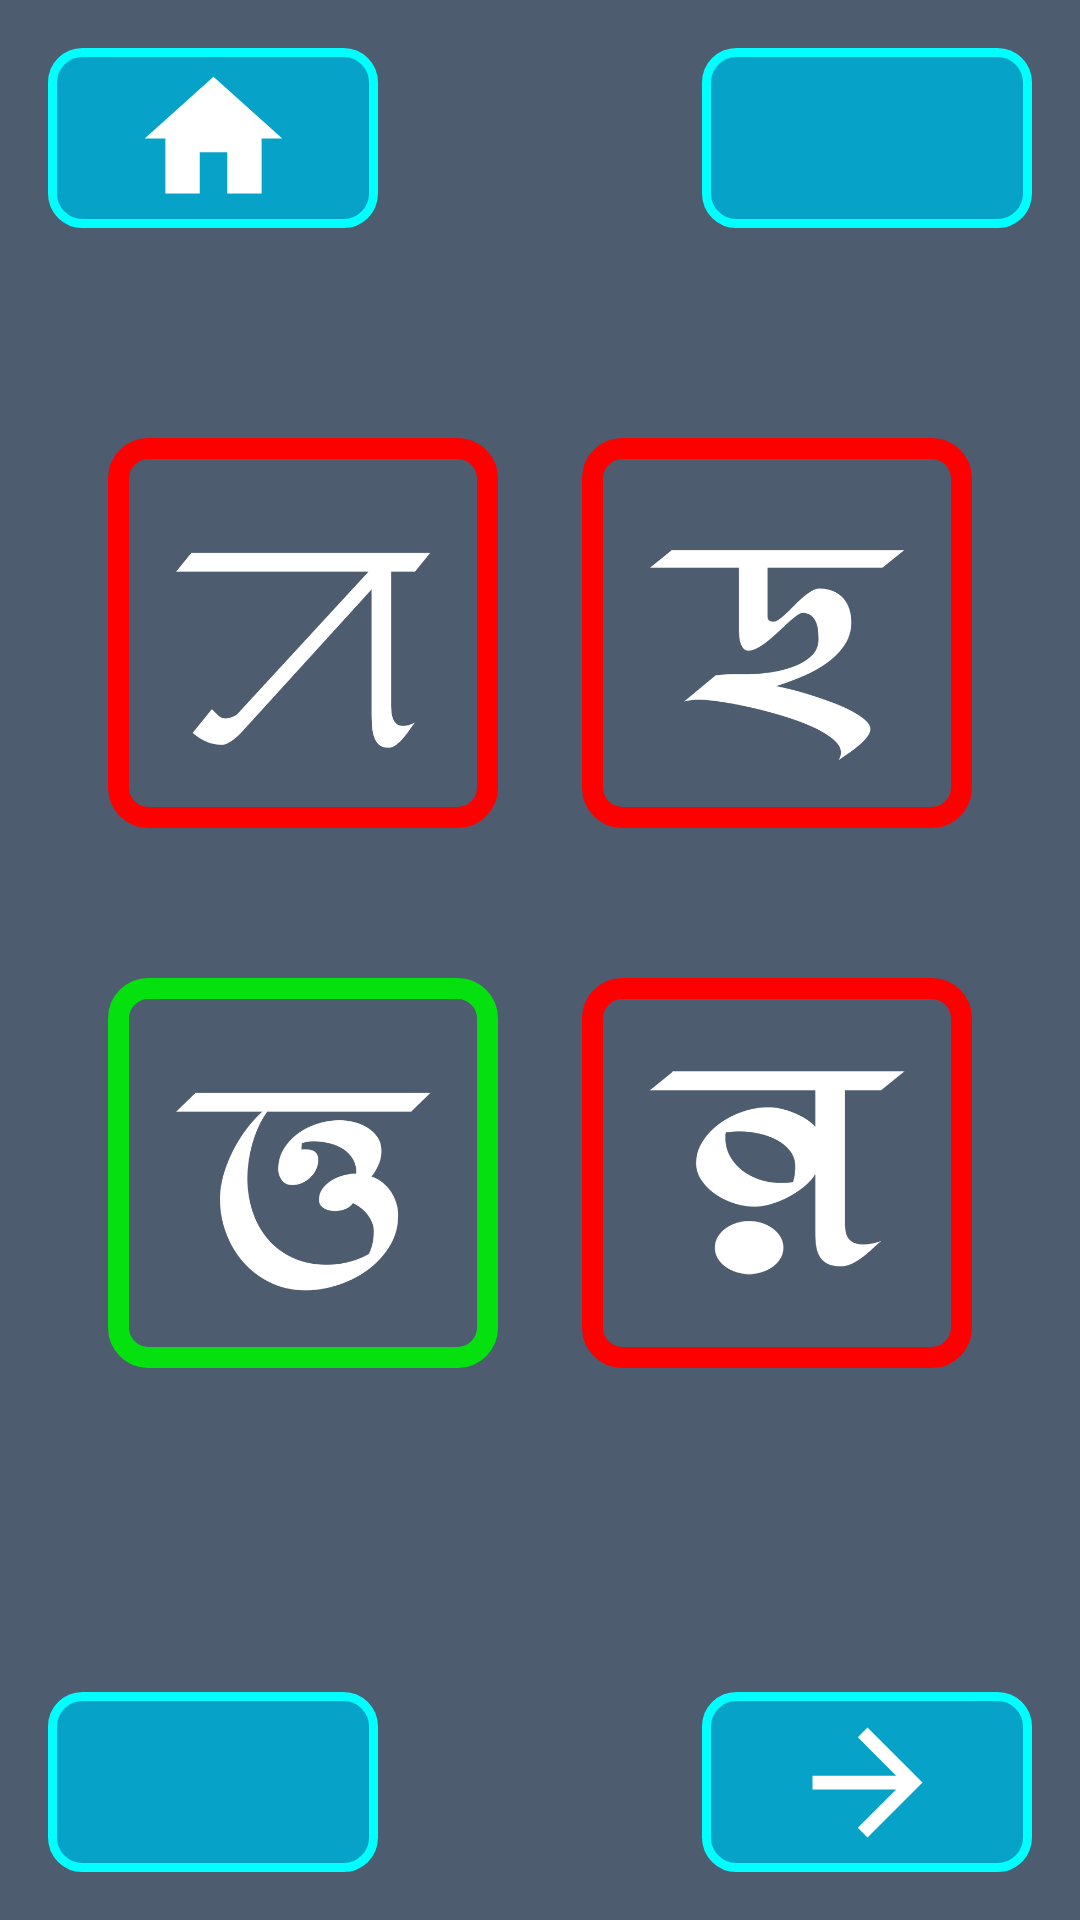

Screen size 1080px×1920px. Icon name, then its center in pixels as (x,y):
arrow forward: (867,1782)
home: (213,138)
